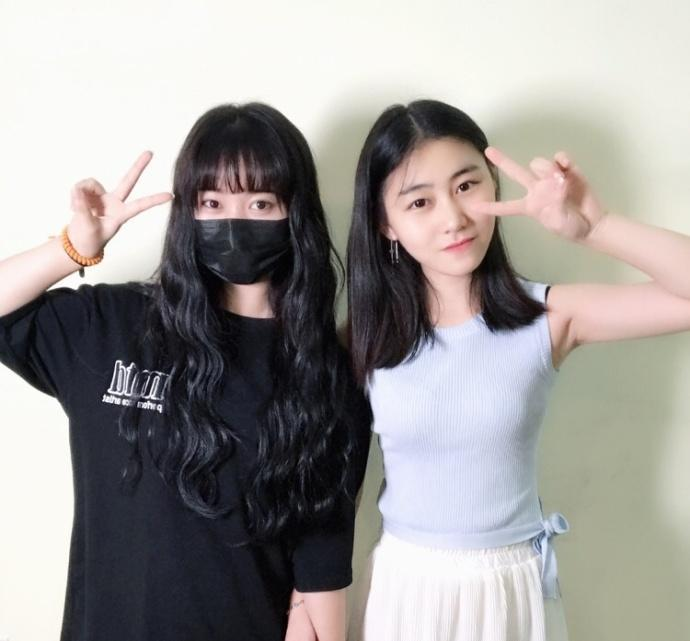NONE: (384, 170, 503, 272)
OK: (186, 175, 294, 283)
